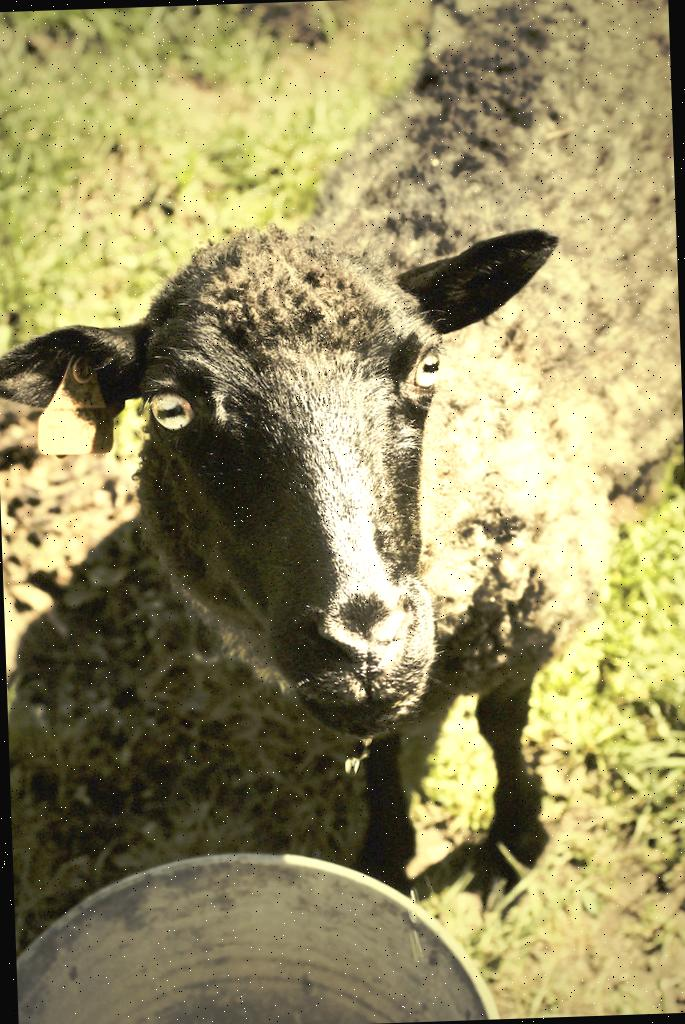Sheep: (0, 0, 685, 871)
